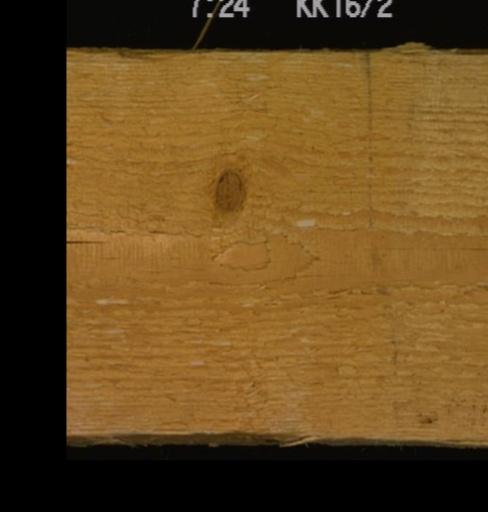sound_knot: (210, 166, 247, 215)
split: (66, 227, 122, 247)
wave: (73, 421, 318, 446)
